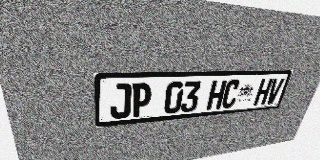0: (163, 81, 185, 114)
3: (180, 81, 201, 113)
C: (220, 80, 241, 109)
H: (206, 80, 227, 110), (253, 78, 273, 106)
J: (110, 83, 132, 119)
P: (131, 83, 152, 117)
V: (264, 78, 285, 104)
